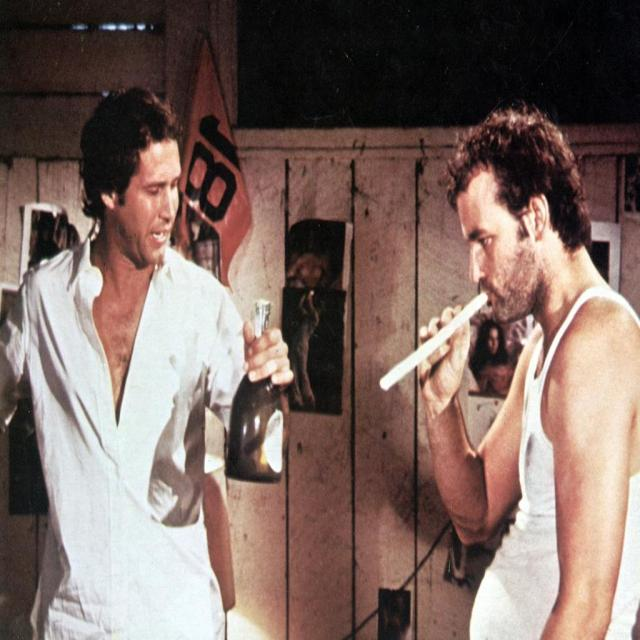smoking: (379, 291, 490, 392)
